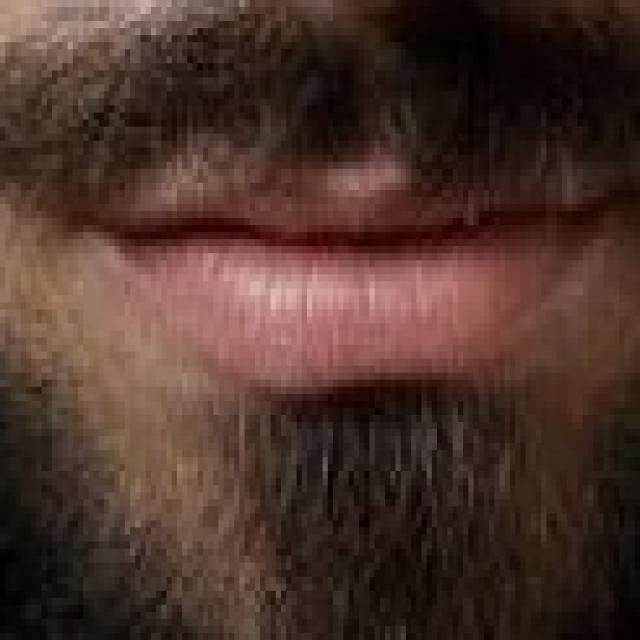closed-mouth: (73, 176, 635, 401)
